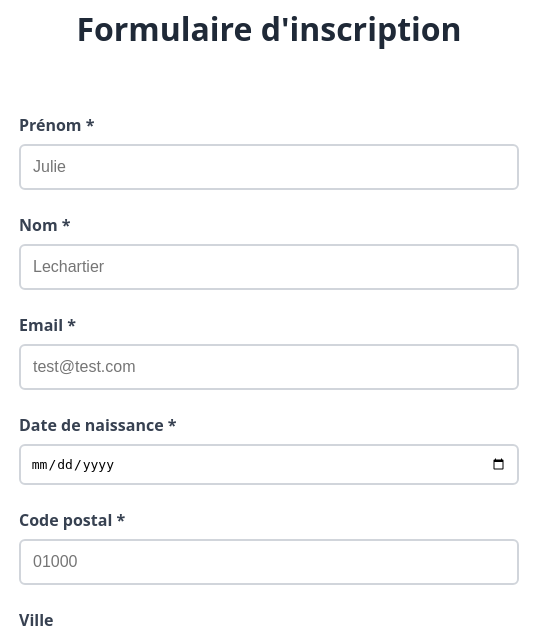
it: Register - Tests INTÉGRATION user-event (YNOV) › bloque chiffres dans nom/prénom/ville
In the field with test id "lastName-input": point(269, 267) [19, 244, 519, 290], type "Test123!"
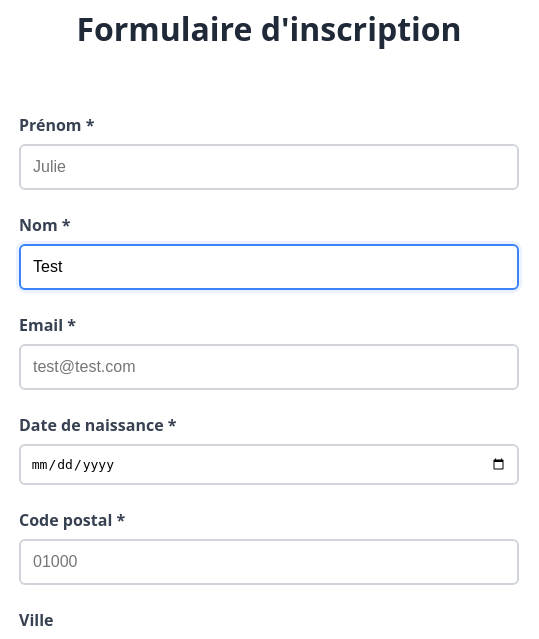
Expected: the field with test id "lastName-input" holds "Test", [19, 244, 519, 290]
